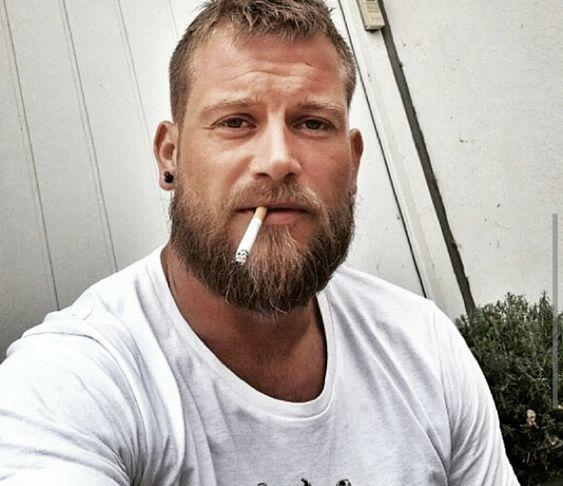cigarette: (235, 206, 269, 265)
